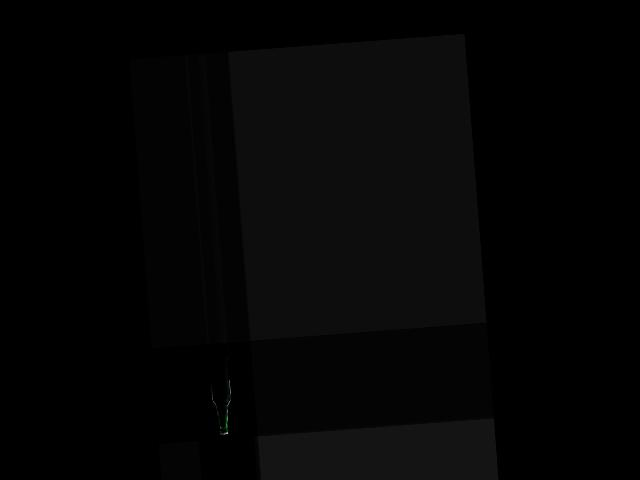beer: (209, 355, 234, 435)
